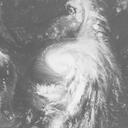cyclone: (38, 42, 115, 80)
